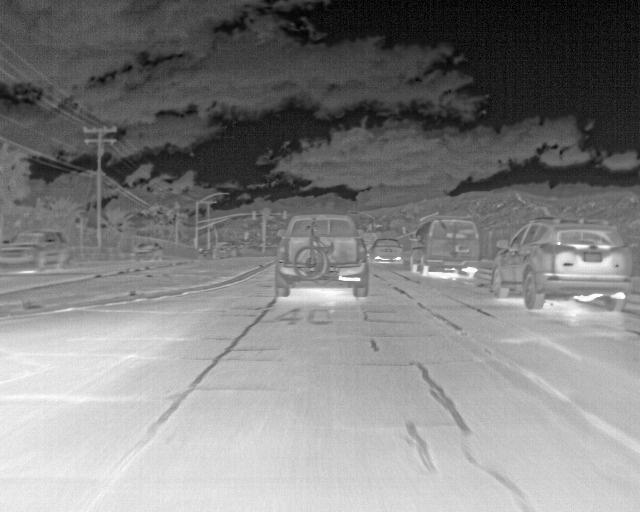bicycle: (292, 232, 329, 283)
car: (492, 218, 627, 314), (274, 209, 369, 299), (409, 214, 480, 279), (0, 228, 70, 275), (367, 236, 402, 263), (133, 240, 162, 261)
